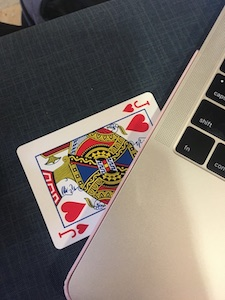JackOfHearts: (11, 89, 171, 251)
